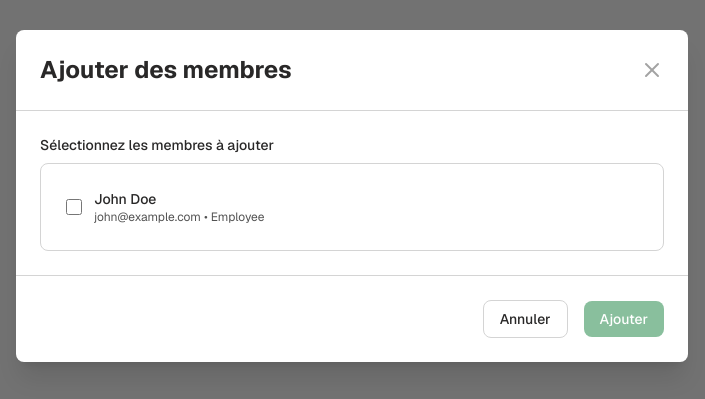
Test case: AddMembersModal › should enable add button when members are selected
Check: the text "John Doe" is shown, box [94,190,156,208]
Click the checkbox.
click(74, 207)  # box [66,199,82,215]
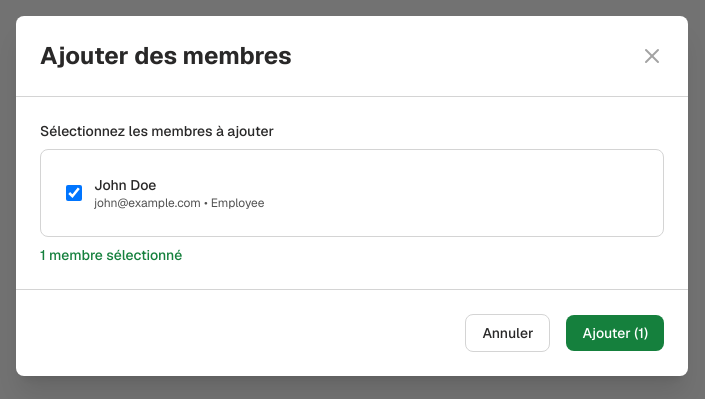
Check: the button "Ajouter (1)" is enabled, box [566,315,664,351]
